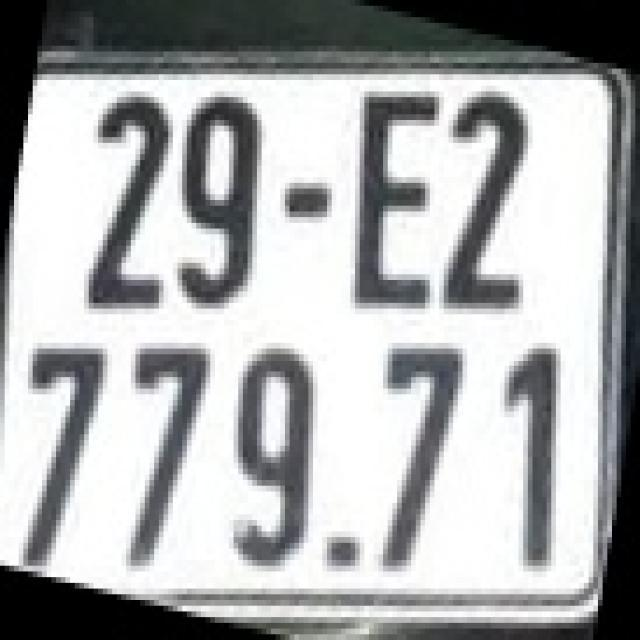1: (495, 337, 570, 572)
2: (443, 85, 532, 308), (84, 92, 168, 308)
7: (374, 337, 467, 572), (126, 337, 210, 566), (23, 343, 108, 560)
9: (229, 337, 318, 566), (178, 92, 266, 308)
E: (346, 80, 440, 314)
